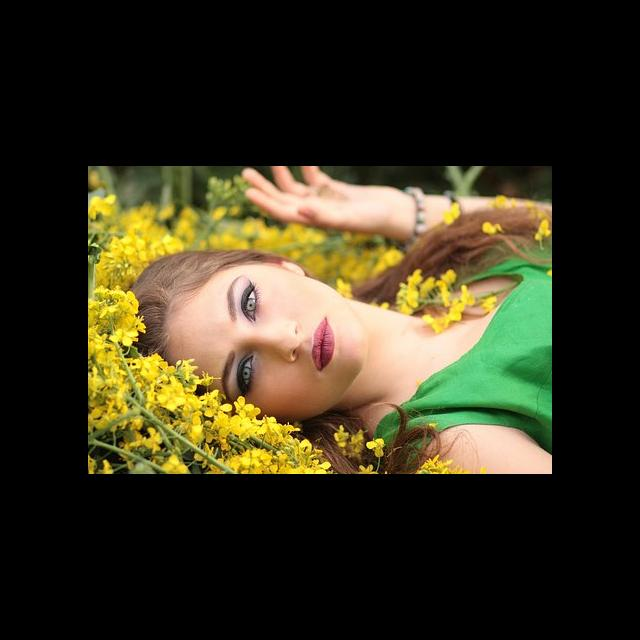female: (132, 208, 370, 404)
